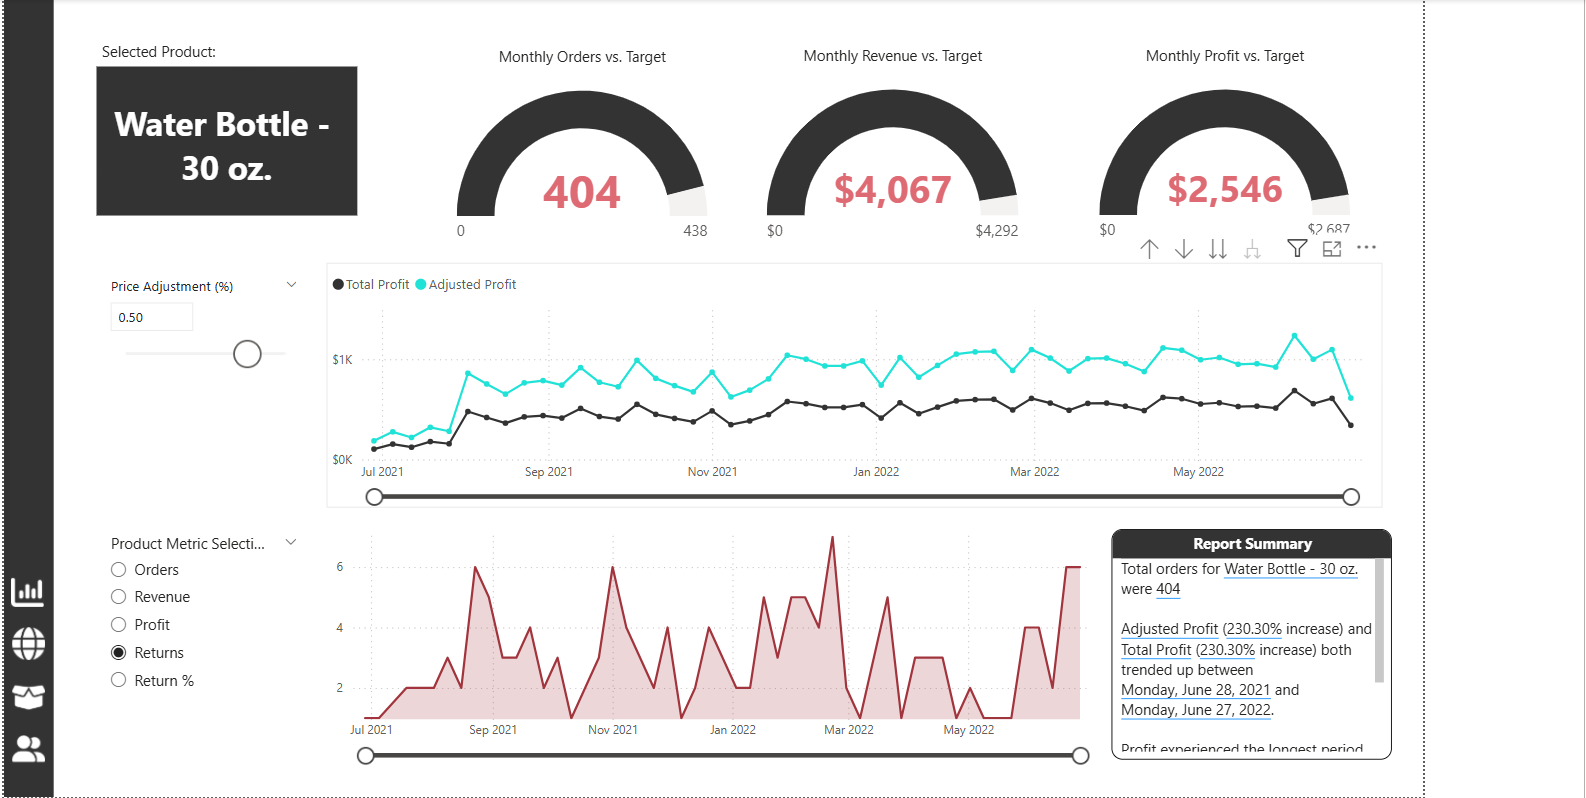

Layout of this report page (visuals, bound fields, positions):
{"tool":"powerbi","page":{"name":"Product Detail","canvas":[1280,720],"ordinal":2},"visuals":[{"type":"shape","box":[0,0,45,720],"z":0},{"type":"actionButton","box":[2.5,516.7,45.6,37.8],"z":0,"group":"g1"},{"type":"gauge","title":"Monthly Orders vs. Target","fields":{"Y":["Measure Table.Total Orders"],"MaxValue":["Measure Table.Order Target"]},"box":[403.5,42.8,236,203],"z":1000},{"type":"actionButton","box":[3.3,563.4,45.6,37.8],"z":1000,"group":"g1"},{"type":"gauge","title":"Monthly Revenue vs. Target","fields":{"Y":["Measure Table.Total Revenue"],"MaxValue":["Measure Table.Revenue Target"]},"box":[683.5,41.5,236.9,203.7],"z":2000},{"type":"actionButton","box":[3.3,611.1,45.6,37.8],"z":2000,"group":"g1"},{"type":"gauge","title":"Monthly Profit vs. Target","fields":{"Y":["Measure Table.Total Profit"],"MaxValue":["Measure Table.Profit Target"]},"box":[983.4,41.8,236.2,203.5],"z":3000},{"type":"actionButton","box":[3.3,657.8,45.6,37.8],"z":3000,"group":"g1"},{"type":"lineChart","title":"Profit Trending","fields":{"Category":["Calendar Lookup.Date Hierarchy.Year","Calendar Lookup.Date Hierarchy.Start of Month","Calendar Lookup.Date Hierarchy.Start of Week","Calendar Lookup.Date Hierarchy.Date"],"Y":["Measure Table.Total Profit","Measure Table.Adjusted Profit"]},"box":[290.5,237.4,952.8,221.5],"z":4000},{"type":"areaChart","title":"Return Trending","fields":{"Y":["Measure Table.Total Returns"],"Category":["Calendar Lookup.Date Hierarchy.Year","Calendar Lookup.Date Hierarchy.Start of Month","Calendar Lookup.Date Hierarchy.Start of Week","Calendar Lookup.Date Hierarchy.Date"]},"box":[290.5,471.3,708.7,221.5],"z":5000},{"type":"card","fields":{"Values":["Min(Product Lookup.ProductName)"]},"box":[83.6,61,235.1,134.5],"z":6000},{"type":"textbox","box":[83.6,32.8,136.8,36.2],"z":7000},{"type":"group","id":"g1","title":"Navigation Buttons","box":[2.5,516.7,46.4,178.9],"z":8000},{"type":"slicer","fields":{"Values":["Price Adjustment (%).Price Adjustment (%)"]},"box":[83.6,245.3,193.3,123.2],"z":9000},{"type":"slicer","fields":{"Values":["Product Metric Selection.Product Metric Selection"]},"box":[83.6,477,193.3,180.8],"z":10000},{"type":"textbox","title":"Report Summary","box":[999.2,478.1,253.2,208],"z":11000}]}

Visuals, with their boxes on the page's 1280x720 design canvas (x1, y1, x2, y2). These are canvas units, not pixel positions in the 1586x798 screenshot, which may show the page scaled, cropped or inside an application window:
shape: rect(0, 0, 45, 720)
actionButton: rect(2, 517, 48, 554)
"Monthly Orders vs. Target" gauge: rect(404, 43, 640, 246)
actionButton: rect(3, 563, 49, 601)
"Monthly Revenue vs. Target" gauge: rect(684, 42, 920, 245)
actionButton: rect(3, 611, 49, 649)
"Monthly Profit vs. Target" gauge: rect(983, 42, 1220, 245)
actionButton: rect(3, 658, 49, 696)
"Profit Trending" lineChart: rect(290, 237, 1243, 459)
"Return Trending" areaChart: rect(290, 471, 999, 693)
card - Min(Product Lookup.ProductName): rect(84, 61, 319, 196)
textbox: rect(84, 33, 220, 69)
"Navigation Buttons" group: rect(2, 517, 49, 696)
slicer - Price Adjustment (%).Price Adjustment (%): rect(84, 245, 277, 368)
slicer - Product Metric Selection.Product Metric Selection: rect(84, 477, 277, 658)
"Report Summary" textbox: rect(999, 478, 1252, 686)
